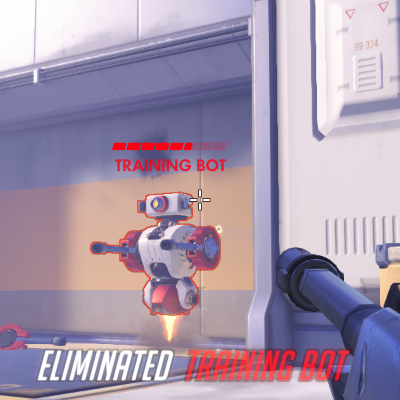hpbar: (112, 142, 227, 150)
